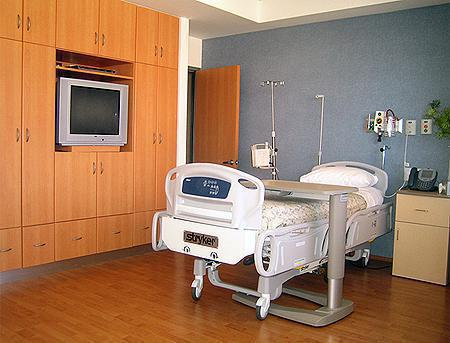Cama: (153, 163, 392, 302)
Puerta: (195, 71, 237, 165)
